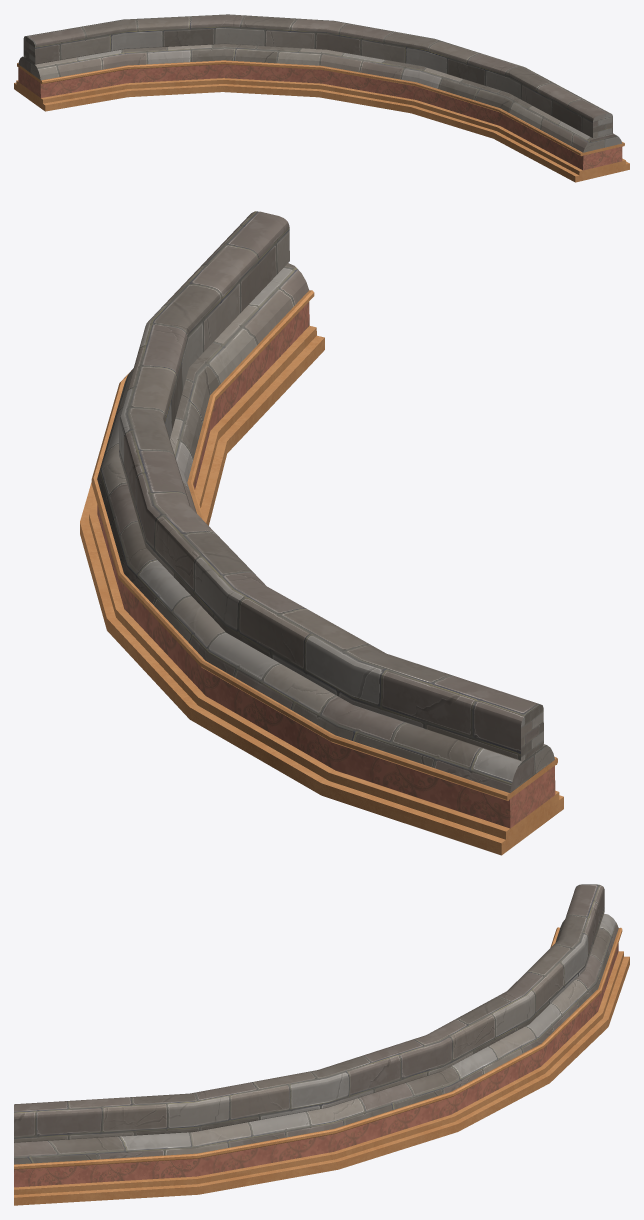
The model's file is rail_st_90_complete_clean.fbx.
3 views of the same model, one above another, from view 1: azimuth 30°, elevation 25°; view 2: azimuth 150°, elevation 25°; view 3: azimuth 270°, elevation 25° (orthographic). The views are drawn at different scales.
Parts seen in each view (by area): view 1: rail_st_90_top, rail_st_90_mid, rail_st_90_bot, rail_st_90_b2, rail_st_90_strip; view 2: rail_st_90_top, rail_st_90_mid, rail_st_90_bot, rail_st_90_b2, rail_st_90_strip; view 3: rail_st_90_top, rail_st_90_mid, rail_st_90_bot, rail_st_90_b2, rail_st_90_strip.
Part boxes in pixels (x1=…): rail_st_90_top: x1=23, y1=14, x2=612, y2=138; rail_st_90_mid: x1=18, y1=44, x2=622, y2=152; rail_st_90_bot: x1=14, y1=78, x2=629, y2=182; rail_st_90_b2: x1=18, y1=64, x2=622, y2=170; rail_st_90_strip: x1=17, y1=60, x2=624, y2=156; rail_st_90_top: x1=119, y1=211, x2=543, y2=761; rail_st_90_mid: x1=97, y1=263, x2=554, y2=792; rail_st_90_bot: x1=80, y1=325, x2=563, y2=855; rail_st_90_b2: x1=97, y1=302, x2=555, y2=828; rail_st_90_strip: x1=91, y1=290, x2=557, y2=800; rail_st_90_top: x1=14, y1=884, x2=604, y2=1142; rail_st_90_mid: x1=14, y1=913, x2=618, y2=1164; rail_st_90_bot: x1=14, y1=951, x2=629, y2=1205; rail_st_90_b2: x1=14, y1=943, x2=618, y2=1187; rail_st_90_strip: x1=14, y1=927, x2=622, y2=1169.
Bounding box in the file's own units: 5.36 × 0.8331 × 5.78.
